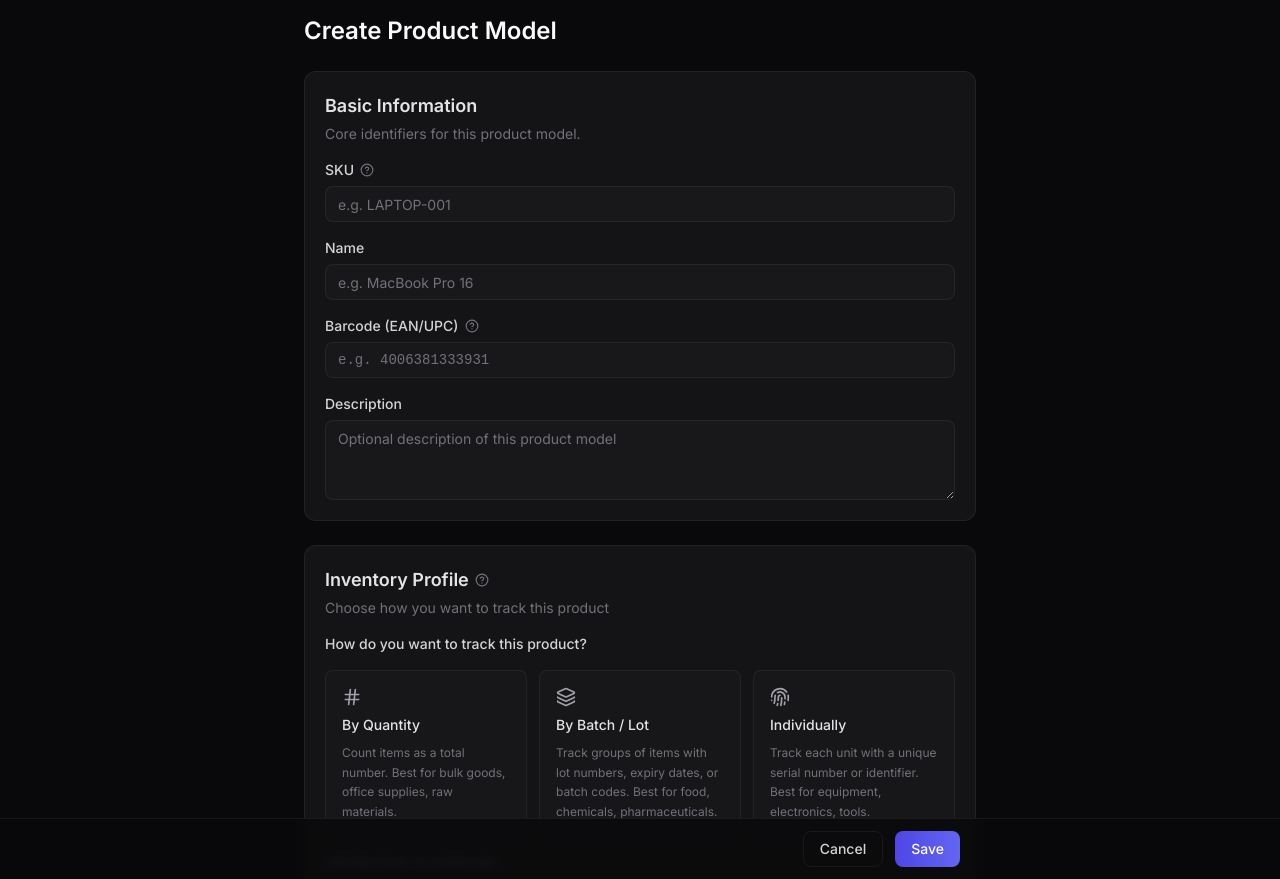
Test: ProductModelCreate – Tracking Preset section › filters templates by the profile's engine type (counter, no converter)
The image size is (1280, 879).
Click the text "By Quantity" at (381, 725), box [342, 715, 420, 735]
(page scrolled)
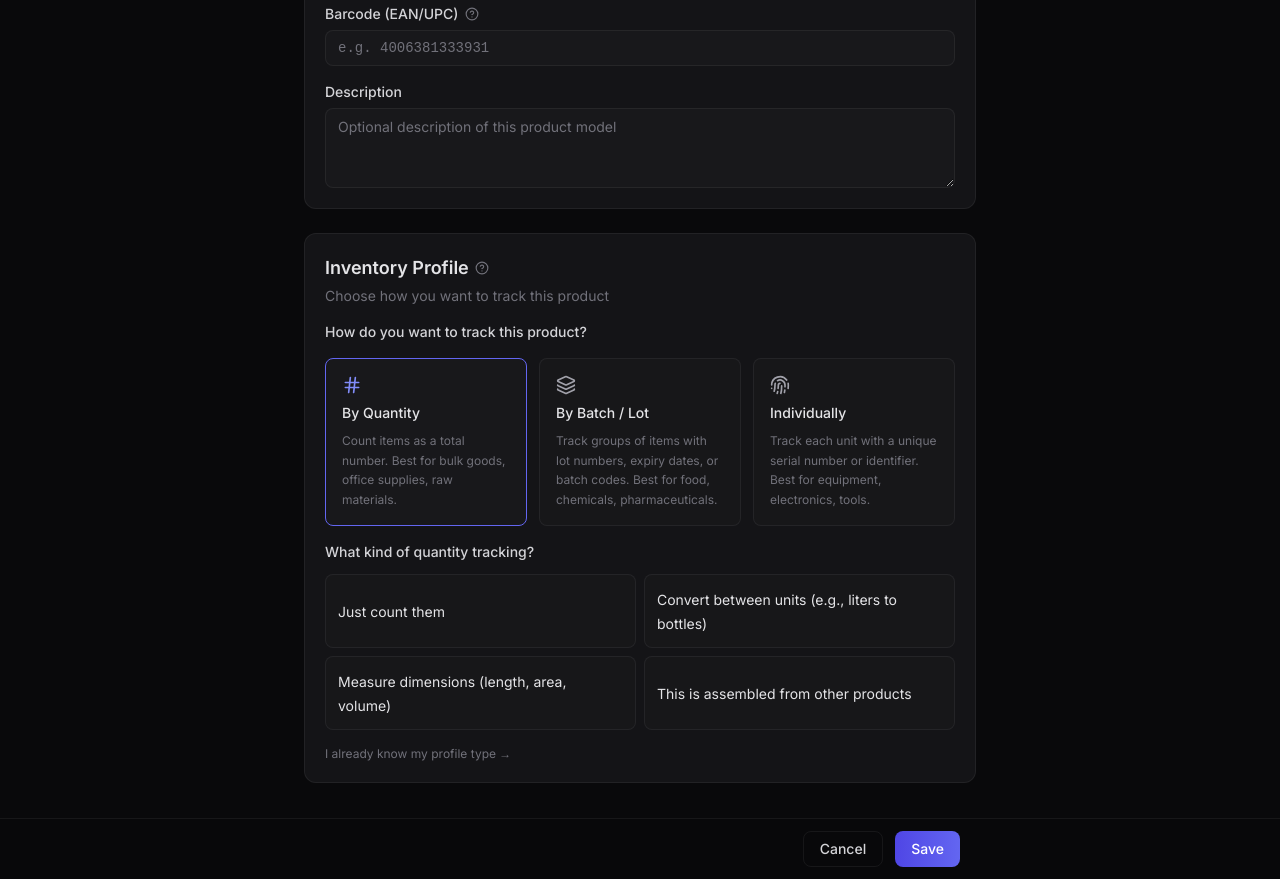
Click the button "Just count them" at (391, 612), box [325, 574, 636, 648]
(page scrolled)
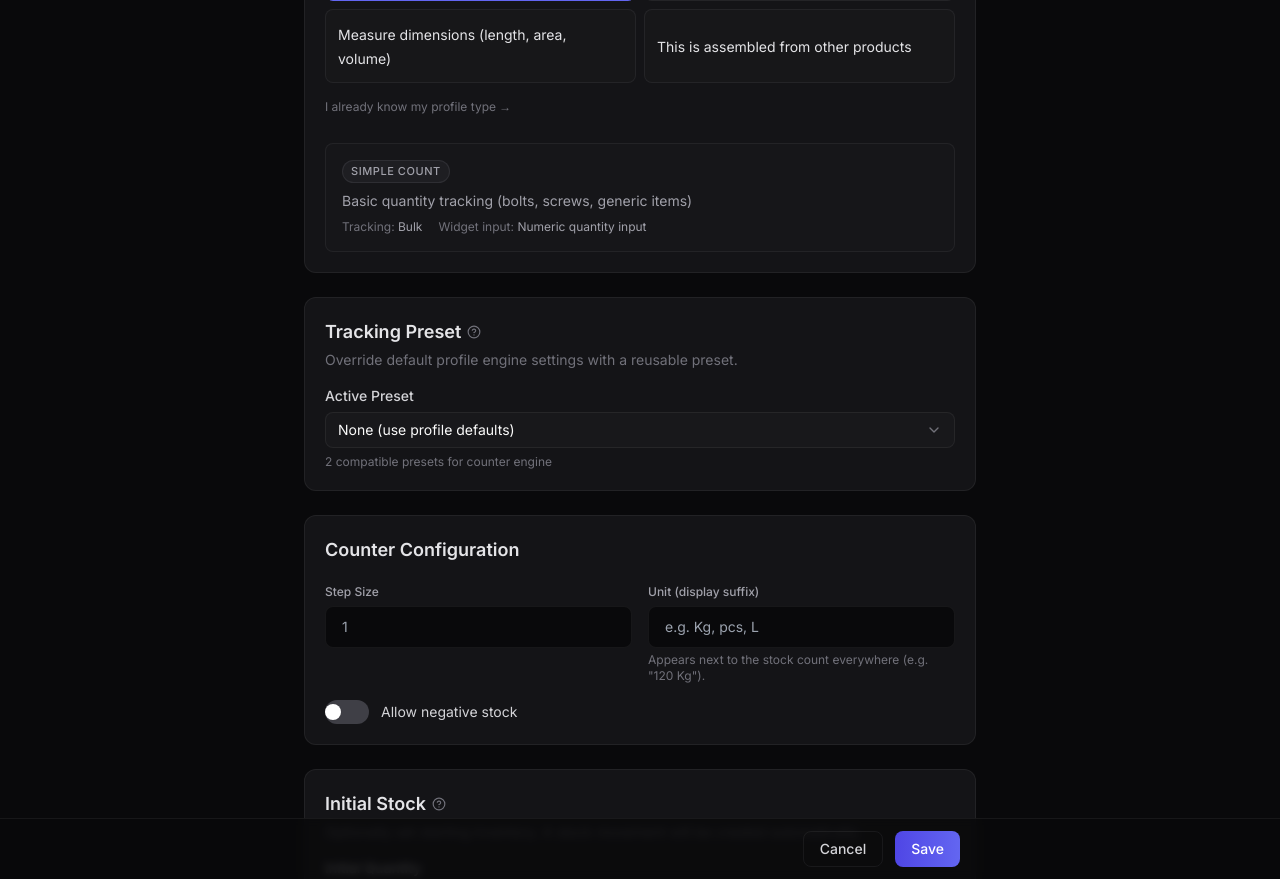
Click the dropdown at (426, 429), box [325, 412, 955, 448]
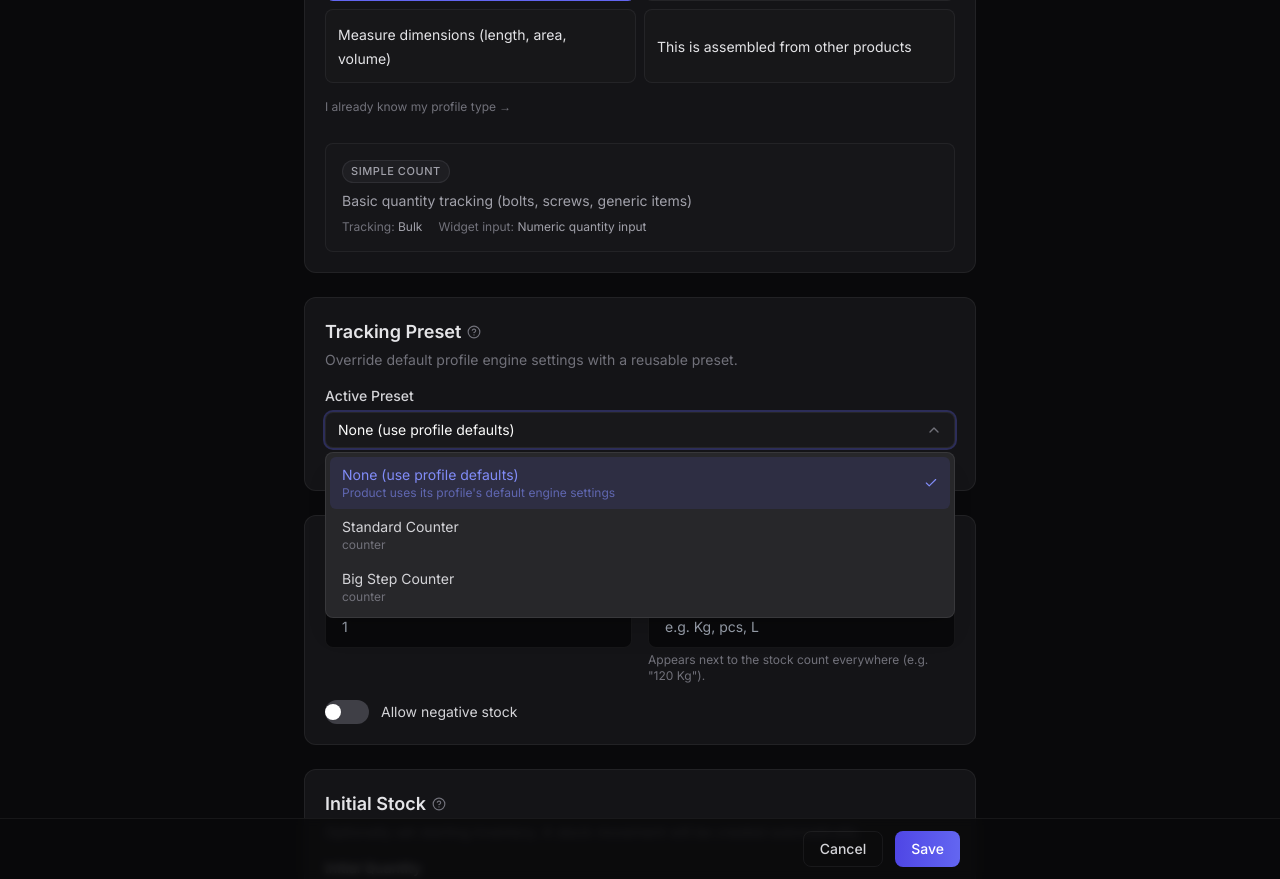
expect the text "Standard Counter" is shown: met, box [342, 516, 459, 536]
expect the text "Big Step Counter" is shown: met, box [342, 568, 454, 588]
